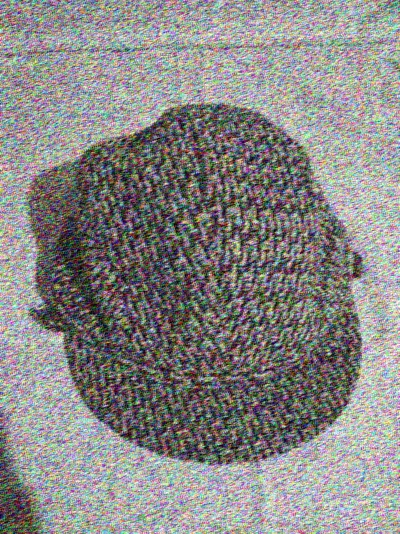Hat: (18, 103, 385, 463)
